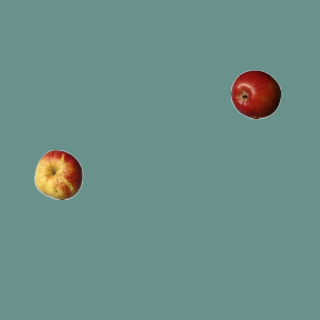Apple Braeburn: (230, 69, 280, 119)
Apple Red Yellow 1: (33, 149, 83, 199)
